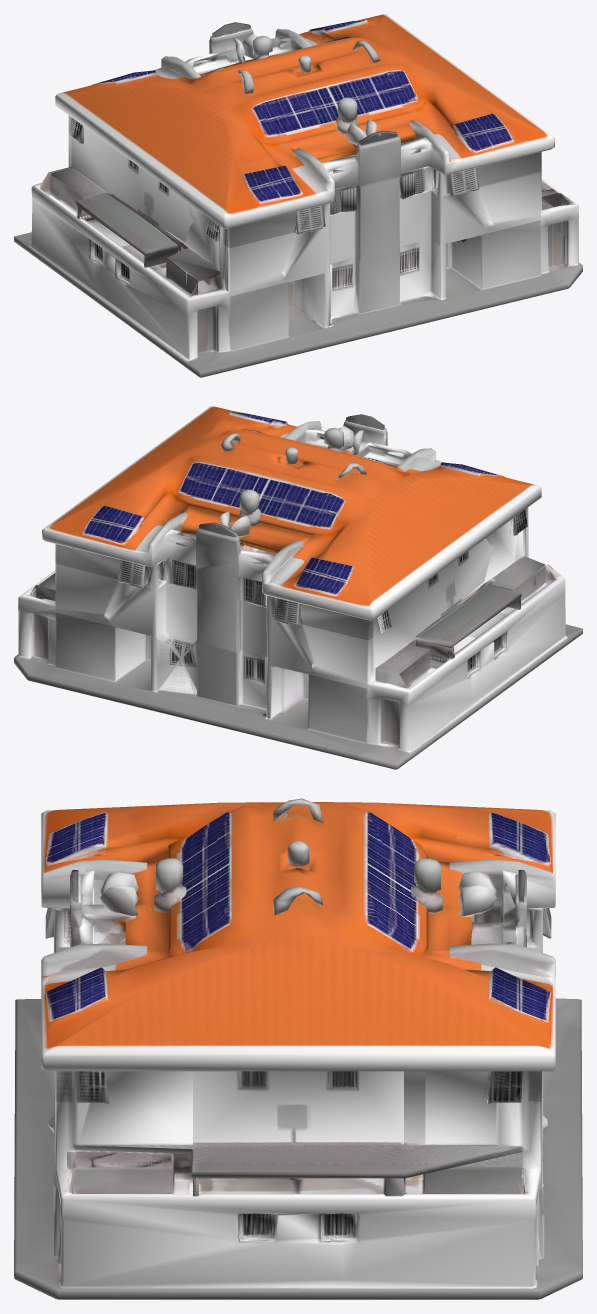
Rendered from bld_556855838.glb.
3 renders of one model, top to bottom at view 1: azimuth 30°, elevation 25°; view 2: azimuth 150°, elevation 25°; view 3: azimuth 270°, elevation 25°, orthographic. The views are drawn at different scales.
Bounding box in the file's own units: 1.9 × 0.9354 × 1.55.
Materials: 1 (1 with a texture image).
